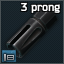SA-58 7.62x51 3 prong trident flash hider: (0, 0, 64, 64)
